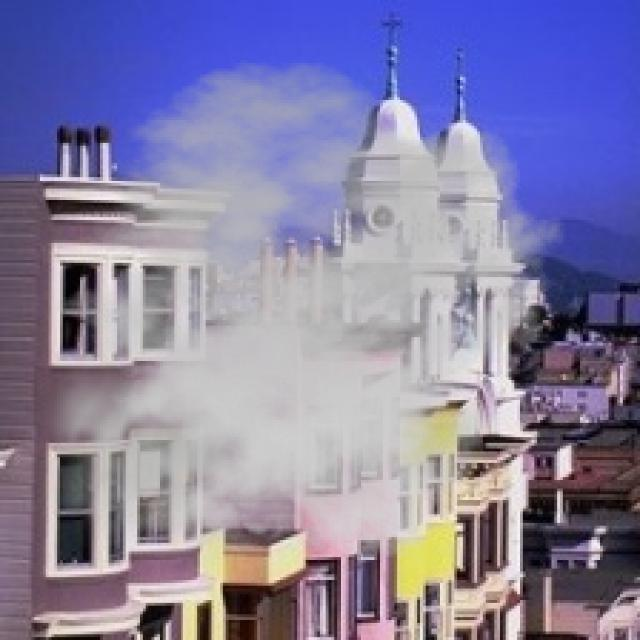smoke: (20, 60, 566, 577)
